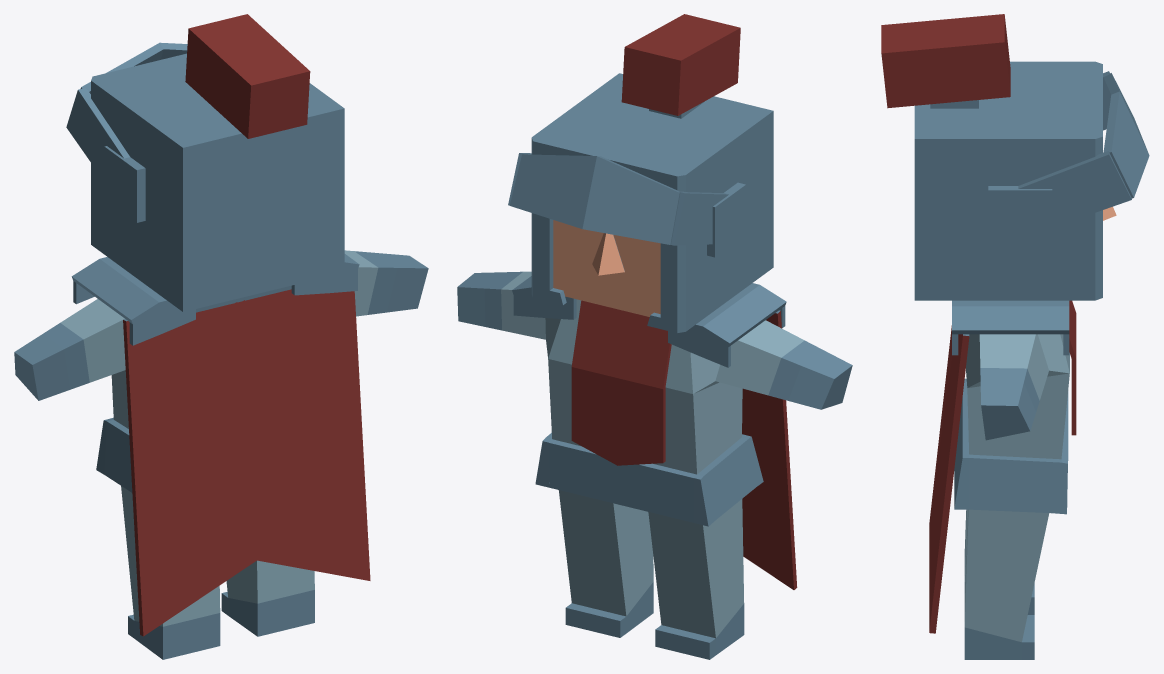
File: stealth_knight.fbx
The picture shows the model from 3 angles, left to right: view 1: azimuth 30°, elevation 25°; view 2: azimuth 150°, elevation 25°; view 3: azimuth 270°, elevation 25°; orthographic projection. The views are drawn at different scales.
Visible parts, largest first — view 1: Cube.010, Cube.009; view 2: Cube.010, Cube.009; view 3: Cube.009, Cube.010.
Boxes of the visible parts, x1,y1,x2,y2 form: Cube.010: (14,250,428,659); Cube.009: (66,14,344,311); Cube.010: (457,271,852,659); Cube.009: (508,14,773,333); Cube.009: (881,14,1149,300); Cube.010: (929,300,1076,659).
Size of the model in its own units: 246 by 360 by 147.
